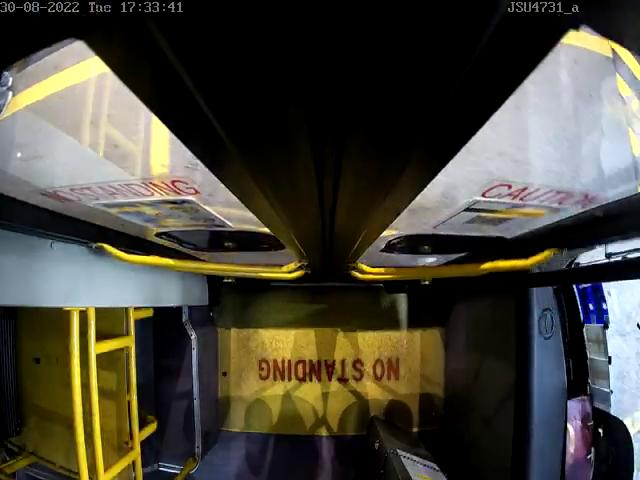close: (0, 0, 640, 89)
